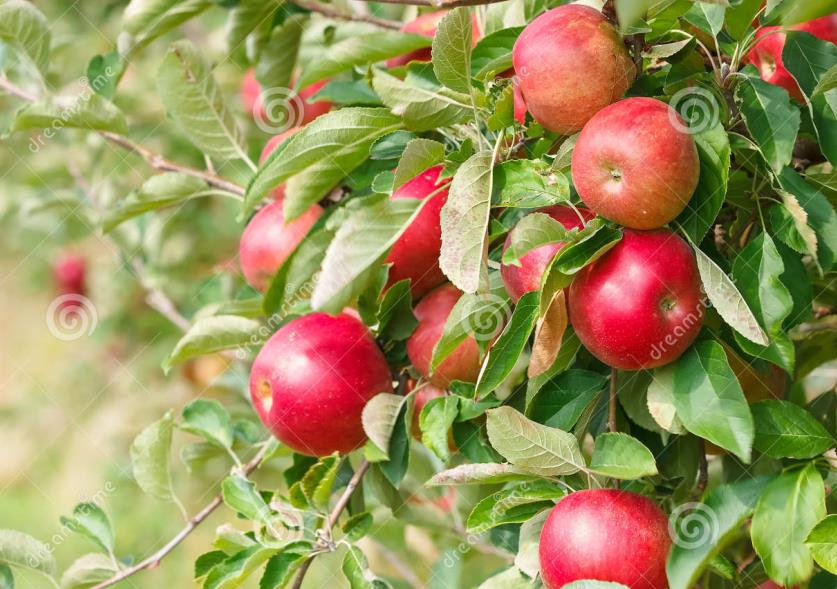apple: (568, 215, 707, 369), (249, 314, 393, 456), (571, 100, 715, 226), (511, 5, 633, 132), (537, 488, 676, 589)
obscured(3)_apple: (406, 274, 498, 390)
